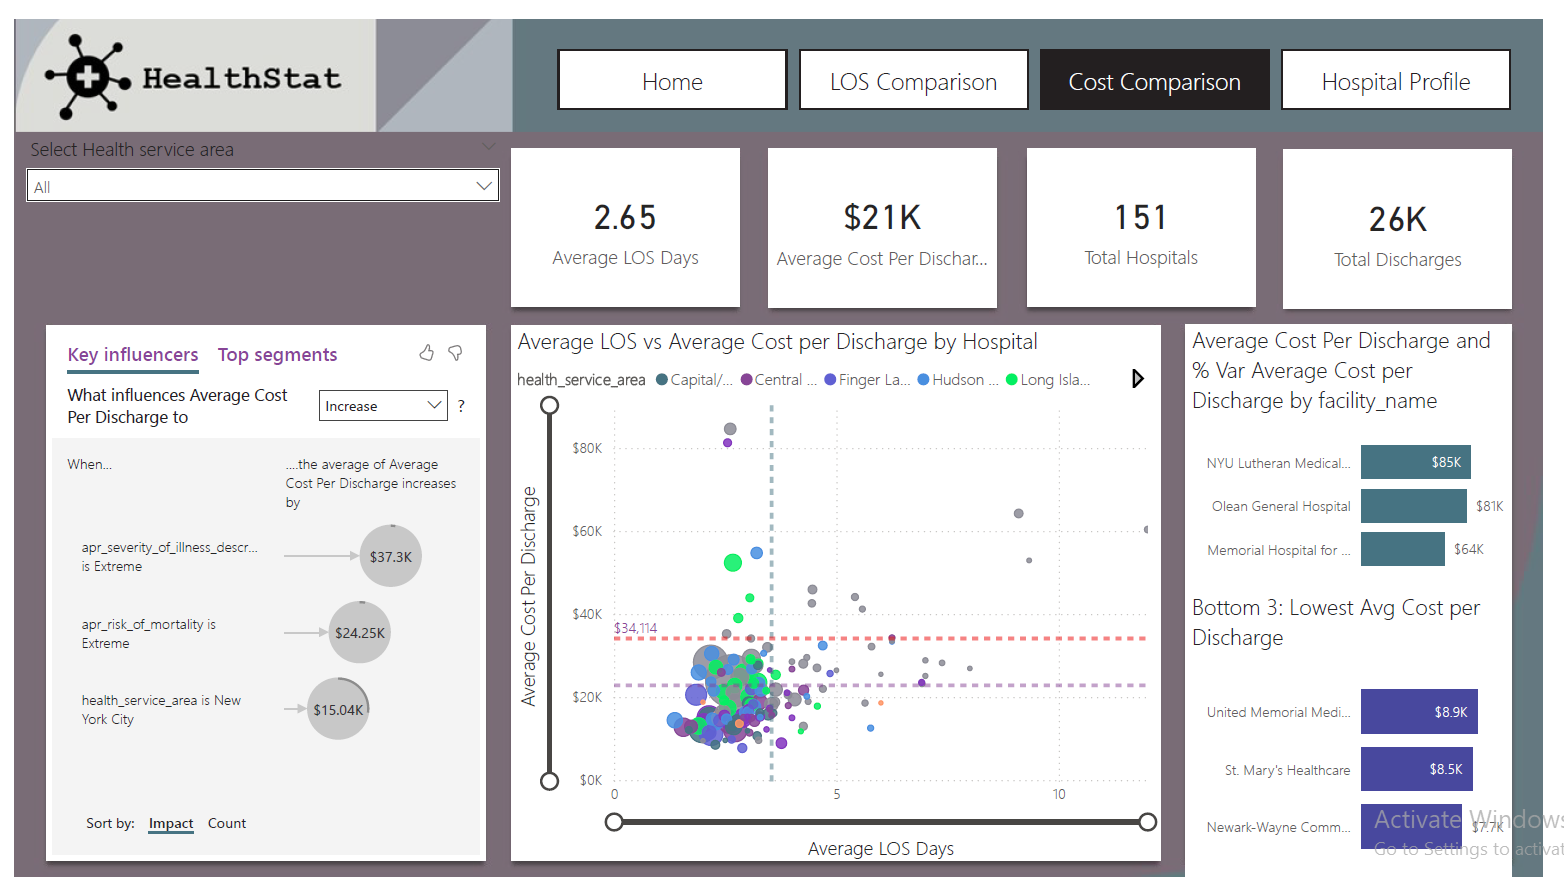

The page's visual inventory and layout, read from the dashboard file:
{"tool":"powerbi","page":{"name":"Cost Comparison","canvas":[1280,720],"ordinal":2},"visuals":[{"type":"scatterChart","title":"Average LOS vs Average Cost per Discharge by Hospital","fields":{"X":["_Measures.Average LOS Days"],"Y":["_Measures.Average Cost Per Discharge"],"Category":["hospital_inpatient_discharges_totalhipreplacement.facility_name"],"Size":["_Measures.Total Discharges"],"Series":["hospital_inpatient_discharges_totalhipreplacement.health_service_area"]},"box":[416.4,255.7,543.6,448.5],"z":0},{"type":"slicer","fields":{"Values":["hospital_inpatient_discharges_totalhipreplacement.health_service_area"]},"box":[0,92.4,416.4,163.3],"z":1000},{"type":"keyDriversVisual","fields":{"ExplainBy":["hospital_inpatient_discharges_totalhipreplacement.apr_risk_of_mortality","hospital_inpatient_discharges_totalhipreplacement.apr_severity_of_illness_description","hospital_inpatient_discharges_totalhipreplacement.ccs_diagnosis_description","hospital_inpatient_discharges_totalhipreplacement.patient_disposition","hospital_inpatient_discharges_totalhipreplacement.gender","hospital_inpatient_discharges_totalhipreplacement.Age Bins","surgical_program_volume_summary.Surgical Program Size","hospital_inpatient_discharges_totalhipreplacement.health_service_area"],"Target":["_Measures.Average Cost Per Discharge"]},"box":[26.8,255.7,366.9,448.5],"z":2000},{"type":"clusteredBarChart","fields":{"Y":["_Measures.Average Cost Per Discharge"],"Category":["hospital_inpatient_discharges_totalhipreplacement.facility_name"]},"box":[981.1,255,272.9,224.2],"z":3000},{"type":"clusteredBarChart","title":"Bottom 3: Lowest Avg Cost per Discharge","fields":{"Y":["_Measures.Average Cost Per Discharge"],"Category":["hospital_inpatient_discharges_totalhipreplacement.facility_name"]},"box":[981.1,479.2,272.9,240.4],"z":4000},{"type":"card","fields":{"Values":["_Measures.Average Cost Per Discharge"]},"box":[630.6,108.5,191.5,133],"z":5000},{"type":"card","fields":{"Values":["_Measures.Average LOS Days"]},"box":[416,108,191.4,132.5],"z":6000},{"type":"card","fields":{"Values":["_Measures.Total Hospitals"]},"box":[847.9,108,191.4,132.5],"z":7000},{"type":"card","fields":{"Values":["_Measures.Total Discharges"]},"box":[1062.6,109.2,191.4,132.5],"z":8000},{"type":"pageNavigator","box":[455.2,25.4,799.3,49.5],"z":9000}]}

Visuals, with their boxes in screenshot pixels (x1, y1, x2, y2), scaled from the page's 1280x720 canvas onto the 1564x892 screenshot:
"Average LOS vs Average Cost per Discharge by Hospital" scatterChart: <region>509, 317, 1173, 872</region>
slicer - hospital_inpatient_discharges_totalhipreplacement.health_service_area: <region>0, 114, 509, 317</region>
keyDriversVisual - hospital_inpatient_discharges_totalhipreplacement.apr_risk_of_mortality x hospital_inpatient_discharges_totalhipreplacement.apr_severity_of_illness_description: <region>33, 317, 481, 872</region>
clusteredBarChart - _Measures.Average Cost Per Discharge x hospital_inpatient_discharges_totalhipreplacement.facility_name: <region>1199, 316, 1532, 594</region>
"Bottom 3: Lowest Avg Cost per Discharge" clusteredBarChart: <region>1199, 594, 1532, 891</region>
card - _Measures.Average Cost Per Discharge: <region>771, 134, 1005, 299</region>
card - _Measures.Average LOS Days: <region>508, 134, 742, 298</region>
card - _Measures.Total Hospitals: <region>1036, 134, 1270, 298</region>
card - _Measures.Total Discharges: <region>1298, 135, 1532, 299</region>
pageNavigator: <region>556, 31, 1533, 93</region>
